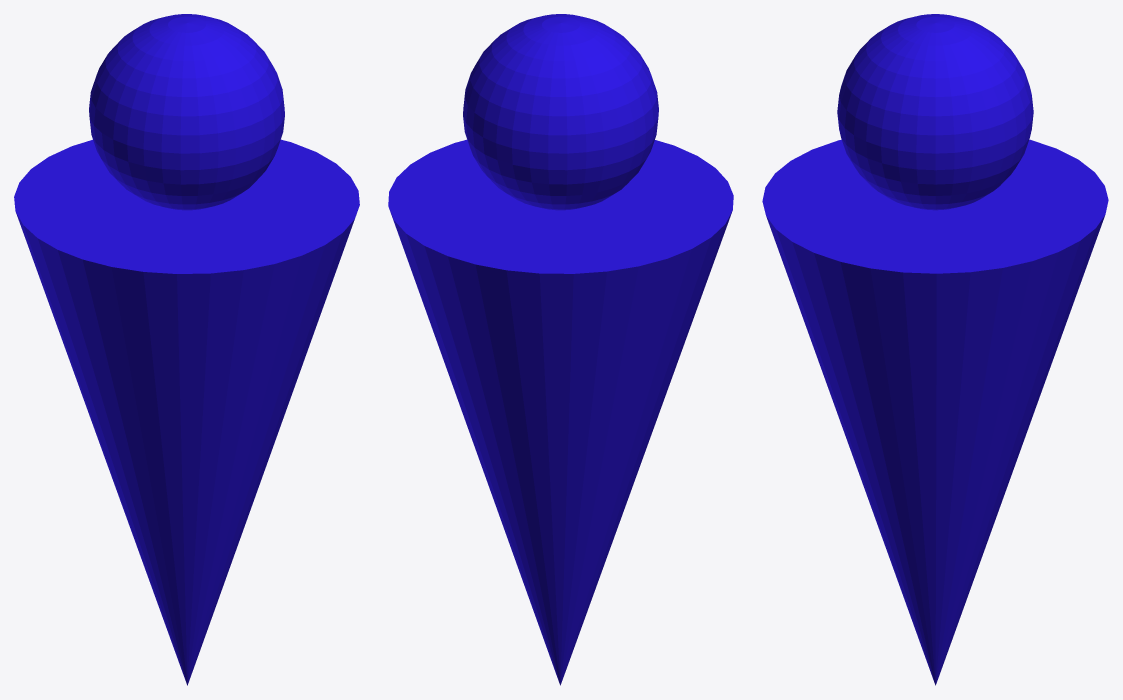
The model's file is player_blue.gltf.
The picture shows the model from 3 angles, left to right: view 1: azimuth 30°, elevation 25°; view 2: azimuth 150°, elevation 25°; view 3: azimuth 270°, elevation 25°; orthographic projection.
Parts seen in each view (by area): view 1: Sphere; view 2: Sphere; view 3: Sphere.
Part boxes in pixels (bbox=[...]): Sphere: bbox=[14, 14, 359, 685]; Sphere: bbox=[388, 14, 733, 685]; Sphere: bbox=[762, 14, 1108, 685].
Bounding box in the file's own units: 1.1 × 2.32 × 1.1.
